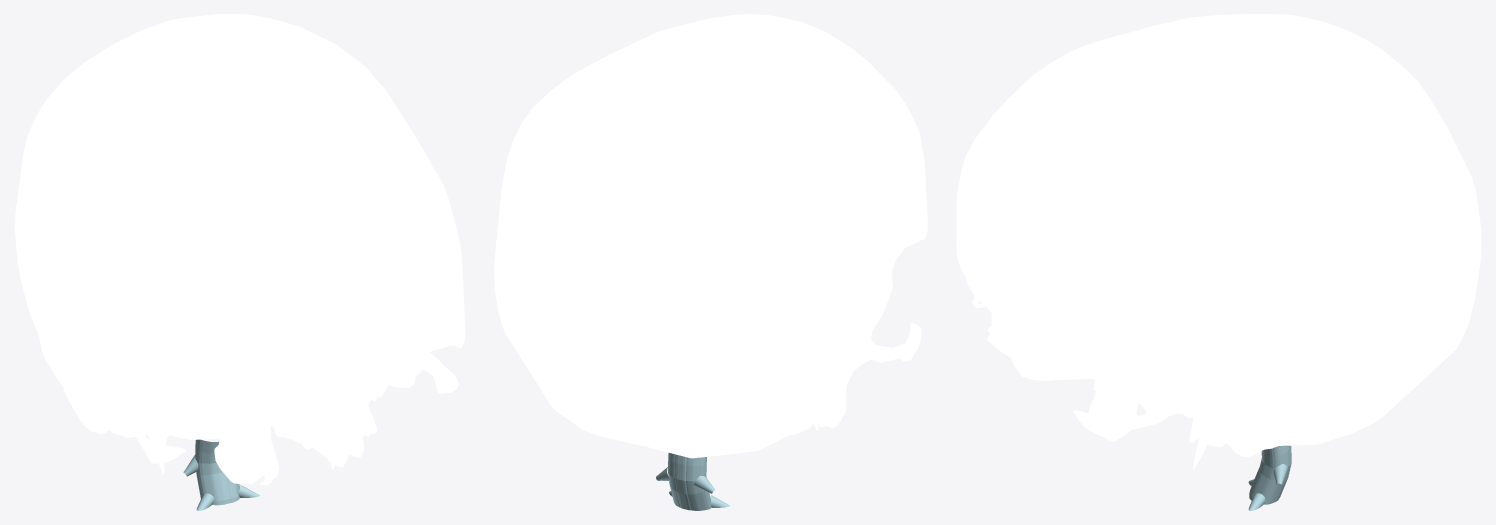
Rendered from ventricles_meninges.glb.
3 views of the same model, side by side, from view 1: azimuth 30°, elevation 25°; view 2: azimuth 150°, elevation 25°; view 3: azimuth 270°, elevation 25° (orthographic). The views are drawn at different scales.
Parts seen in each view (by area): view 1: Frontal bone, Parietal bone.r, Temporal bone.r, Parietal bone.l, Sphenoid bone, Ethmoid bone, Spinal dura, Occipital bone, Temporal bone.l; view 2: Parietal bone.r, Occipital bone, Parietal bone.l, Frontal bone, Temporal bone.r, Spinal dura; view 3: Parietal bone.l, Frontal bone, Temporal bone.l, Occipital bone, Parietal bone.r, Sphenoid bone, Ethmoid bone, Spinal dura.
Boxes of the visible parts, x1,y1,x2,y2 form: Frontal bone: (156, 87, 465, 414); Parietal bone.r: (14, 18, 281, 349); Temporal bone.r: (38, 302, 191, 474); Parietal bone.l: (172, 14, 449, 200); Sphenoid bone: (170, 339, 433, 485); Ethmoid bone: (271, 384, 376, 466); Spinal dura: (183, 439, 259, 510); Occipital bone: (170, 399, 273, 439); Temporal bone.l: (422, 353, 458, 393); Parietal bone.r: (600, 25, 914, 395); Occipital bone: (499, 248, 794, 458); Parietal bone.l: (494, 17, 757, 314); Frontal bone: (718, 14, 927, 247); Temporal bone.r: (778, 257, 921, 438); Spinal dura: (656, 453, 729, 510); Parietal bone.l: (1082, 30, 1473, 391); Frontal bone: (956, 30, 1143, 339); Temporal bone.l: (1073, 318, 1338, 469); Occipital bone: (1279, 159, 1481, 445); Parietal bone.r: (1135, 14, 1472, 181); Sphenoid bone: (1044, 310, 1138, 441); Ethmoid bone: (987, 314, 1097, 381); Spinal dura: (1248, 445, 1291, 510).
Bounding box in the file's own units: 0.1487 × 0.1855 × 0.1905.
